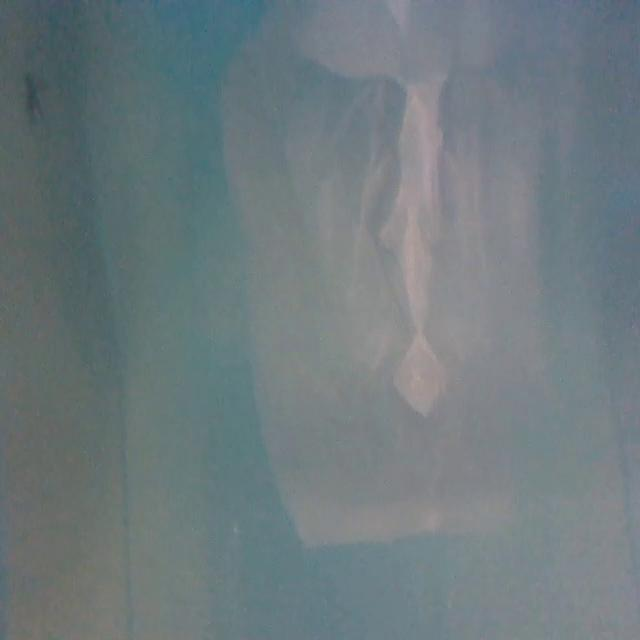plastic bags: (219, 4, 547, 542)
